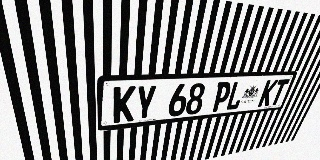6: (167, 83, 190, 117)
8: (184, 83, 207, 115)
K: (113, 86, 136, 123), (257, 79, 279, 107)
L: (225, 81, 247, 111)
P: (210, 81, 233, 112)
T: (269, 79, 290, 106)
Y: (134, 85, 157, 121)
